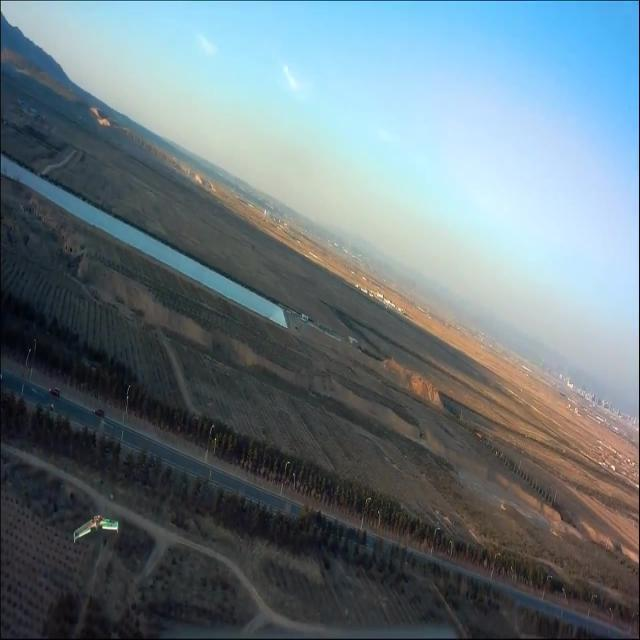iha: (9, 513, 54, 544)
